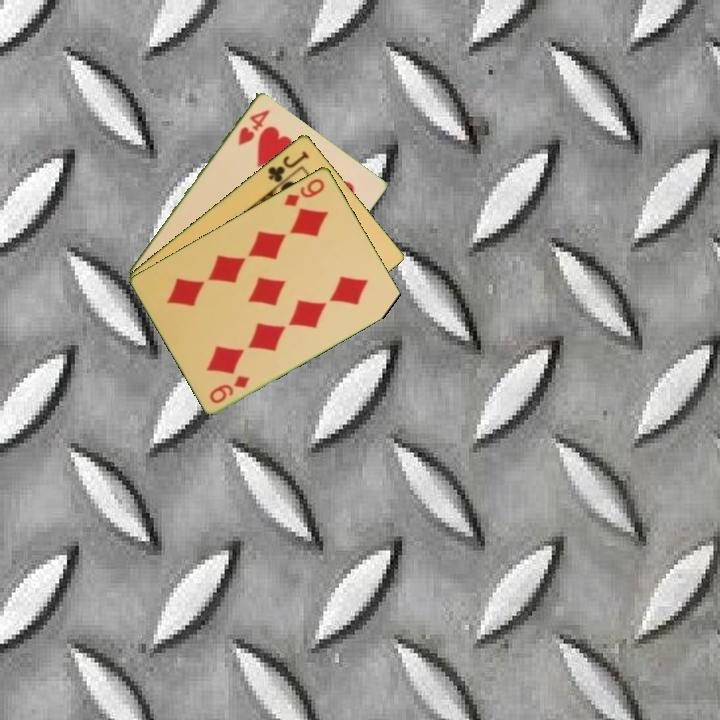4h: (234, 105, 273, 148)
9d: (281, 174, 328, 209), (206, 372, 253, 406)
Jc: (264, 147, 312, 185)
